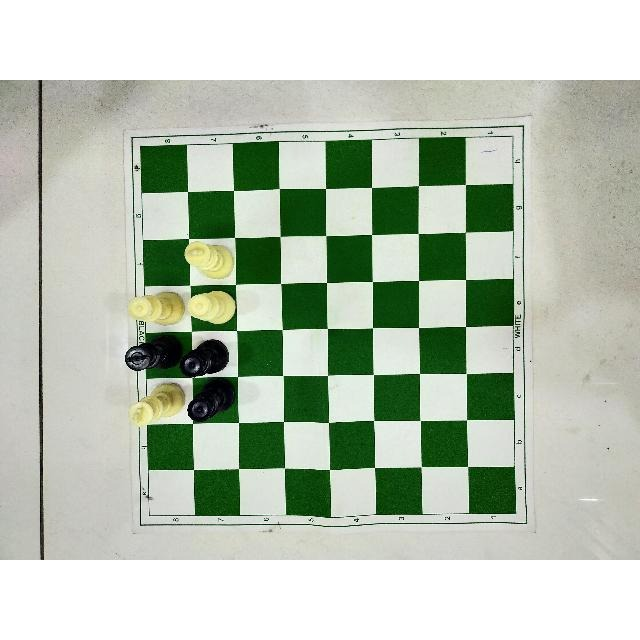black-king: (123, 333, 184, 372)
black-queen: (185, 376, 237, 423), (179, 337, 231, 380)
white-king: (126, 380, 187, 429), (182, 239, 236, 281)
white-queen: (126, 291, 185, 327), (186, 289, 236, 325)
